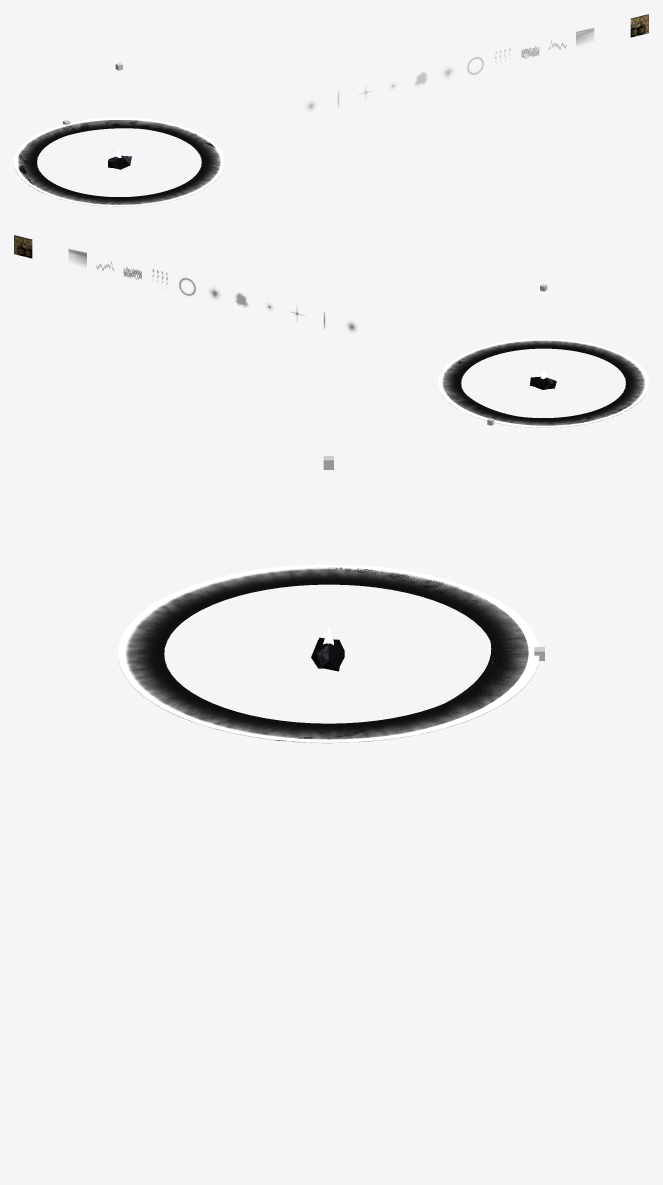
File: MoFengVFX.glb
The picture shows the model from 3 angles, top to bottom: view 1: azimuth 30°, elevation 25°; view 2: azimuth 150°, elevation 25°; view 3: azimuth 270°, elevation 25°; orthographic projection. The views are drawn at different scales.
Parts seen in each view (by area): view 1: ShockRing, SlashArc, RingCore, SlashCore, Tex_HiltGold; view 2: ShockRing, RingCore, SlashArc, SlashCore, Tex_HiltGold; view 3: ShockRing, RingCore, SlashArc, SlashCore.
Boxes of the visible parts, box(x1,y1,x2,y2) form: ShockRing: box(17, 120, 221, 206); SlashArc: box(17, 120, 214, 192); RingCore: box(14, 117, 224, 206); SlashCore: box(14, 117, 219, 189); Tex_HiltGold: box(630, 14, 648, 37); ShockRing: box(441, 340, 646, 427); RingCore: box(438, 338, 648, 427); SlashArc: box(443, 359, 641, 427); SlashCore: box(438, 365, 642, 427); Tex_HiltGold: box(14, 235, 32, 258); ShockRing: box(118, 567, 538, 743); RingCore: box(118, 564, 539, 742); SlashArc: box(275, 567, 537, 743); SlashCore: box(276, 564, 539, 742).
Bounding box in the file's own units: 6.8 × 1.12 × 2.02.
Materials: 16 (15 with a texture image).
